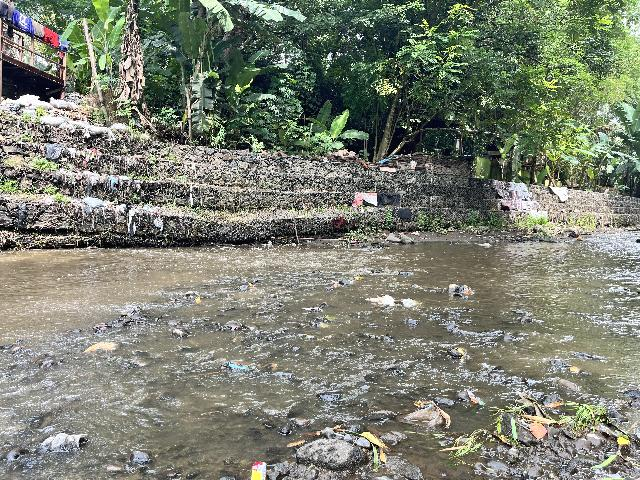Sampah Anorganik: (396, 397, 458, 432), (244, 457, 268, 480), (468, 391, 487, 407)
Sampah Organik: (332, 428, 392, 469)
